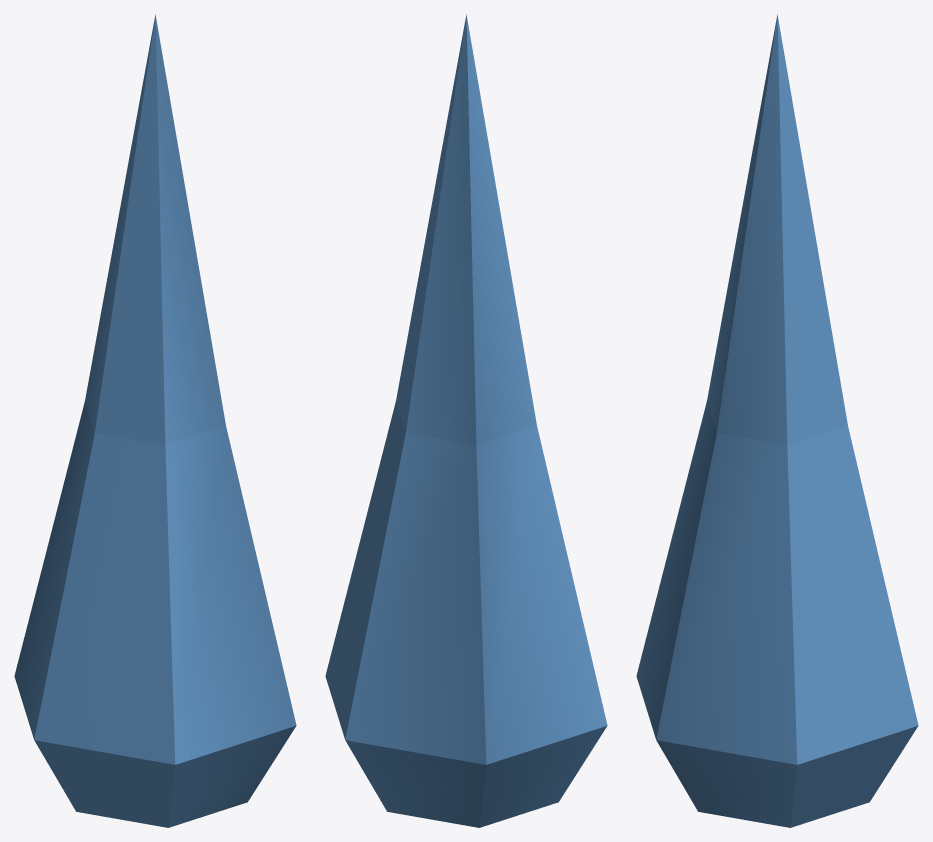
File: 2083_PrimordialShower_Hydro_Counter_Projectile.fbx
The picture shows the model from 3 angles, left to right: view 1: azimuth 30°, elevation 25°; view 2: azimuth 150°, elevation 25°; view 3: azimuth 270°, elevation 25°; orthographic projection.
Parts seen in each view (by area): view 1: PART_ReflectedElementFragment; view 2: PART_ReflectedElementFragment; view 3: PART_ReflectedElementFragment.
Part boxes in pixels (<box>): PART_ReflectedElementFragment: <box>14,14,296,827</box>; PART_ReflectedElementFragment: <box>325,14,607,827</box>; PART_ReflectedElementFragment: <box>636,14,918,827</box>.
Bounding box in the file's own units: 51.56 × 145 × 48.02.
